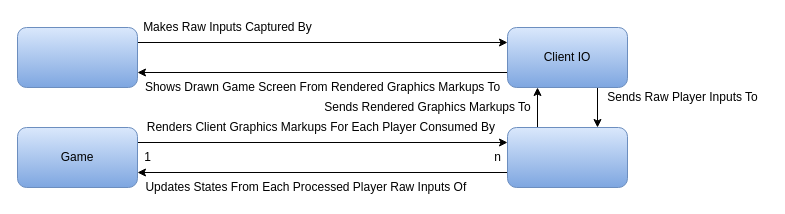
This 785x214 diagram has some shape labels left out. Each missing label, with the centre of its shape:
Player: [77,57]
Server IO: [567,157]
